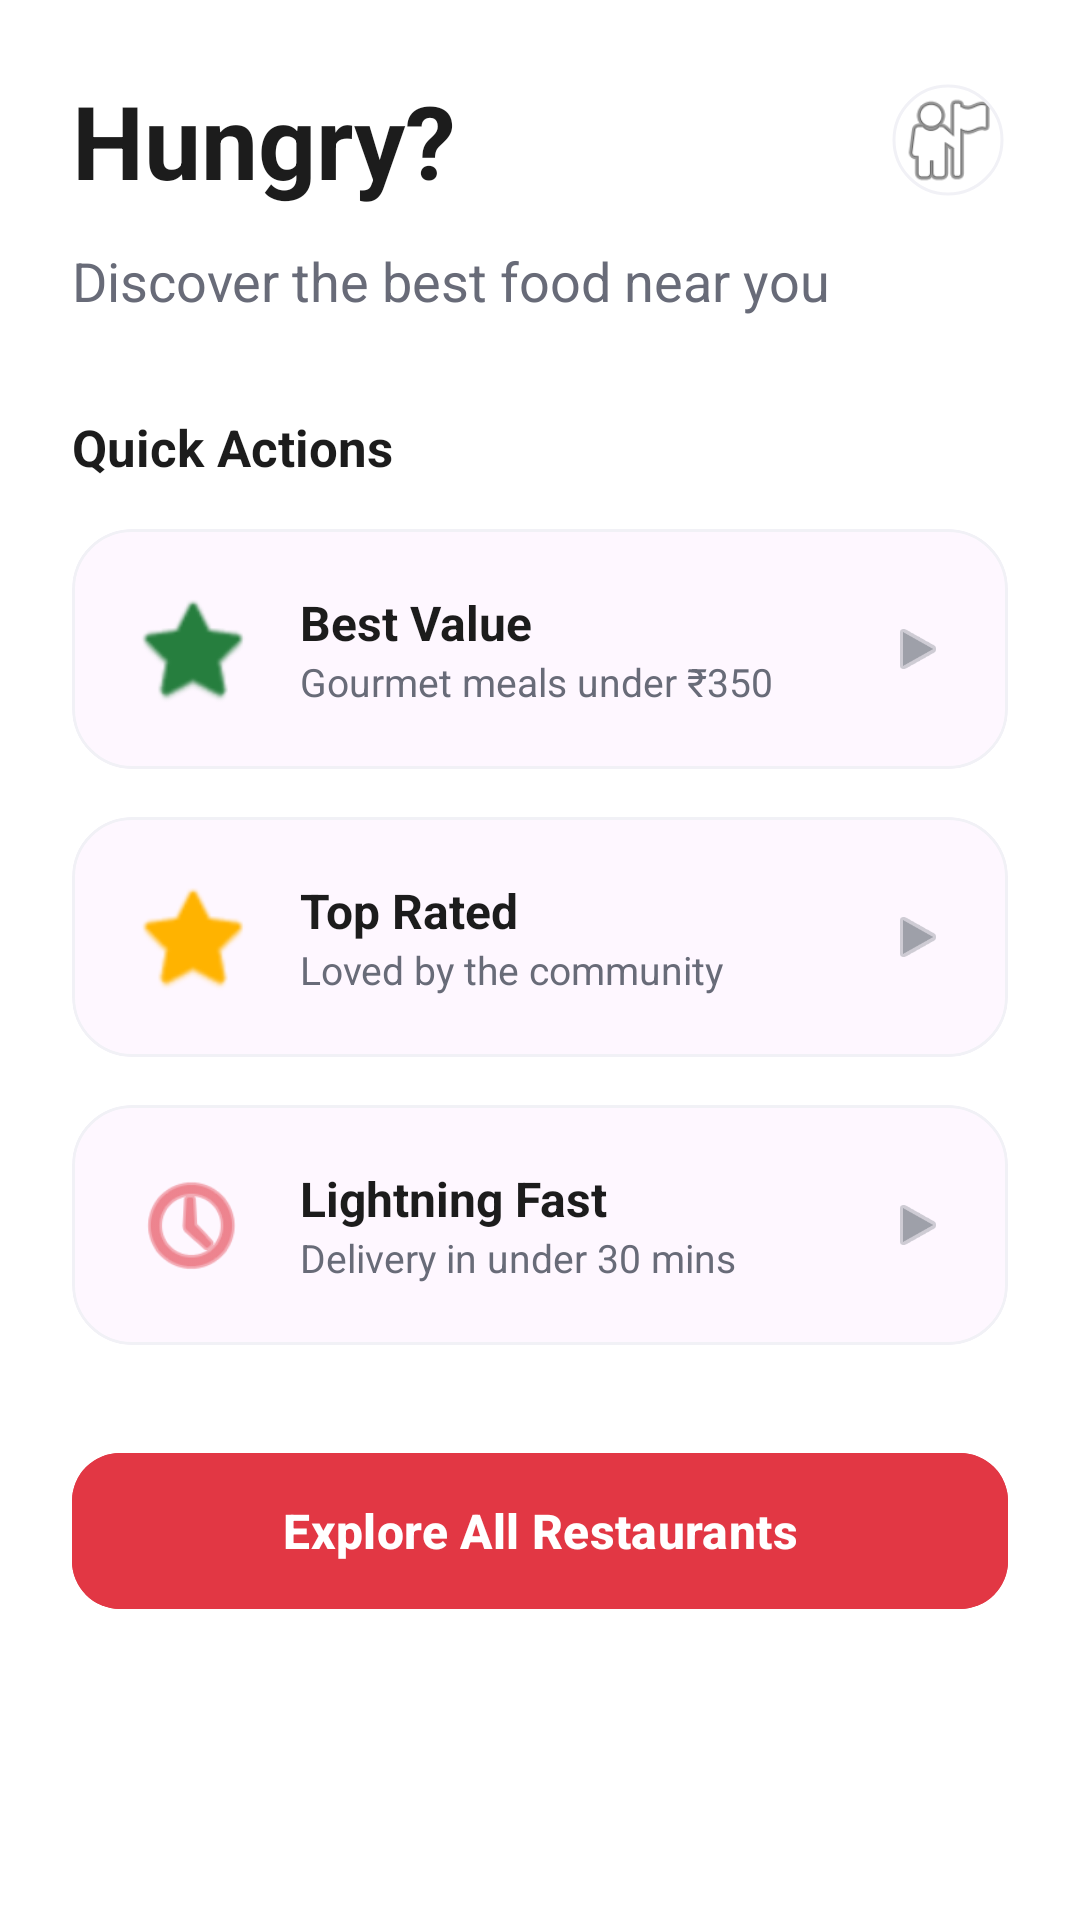

Screen size 1080px x 1920px. Icon name, then its box in pixels as (x1, y1, x2, y2):
myplaces: (908, 100, 990, 180)
play: (900, 629, 936, 669), (900, 917, 936, 957), (900, 1205, 936, 1245)
recent history: (148, 1182, 235, 1269)
star on: (143, 601, 243, 699), (143, 889, 243, 987)
